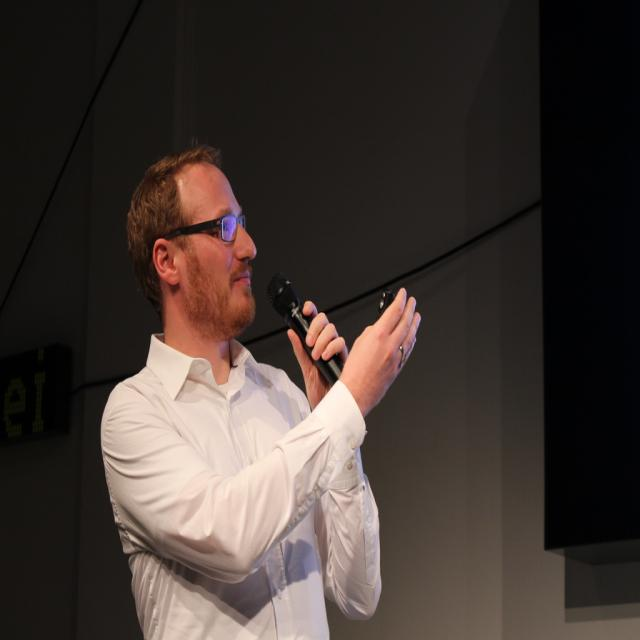Glasses: (158, 211, 252, 243)
